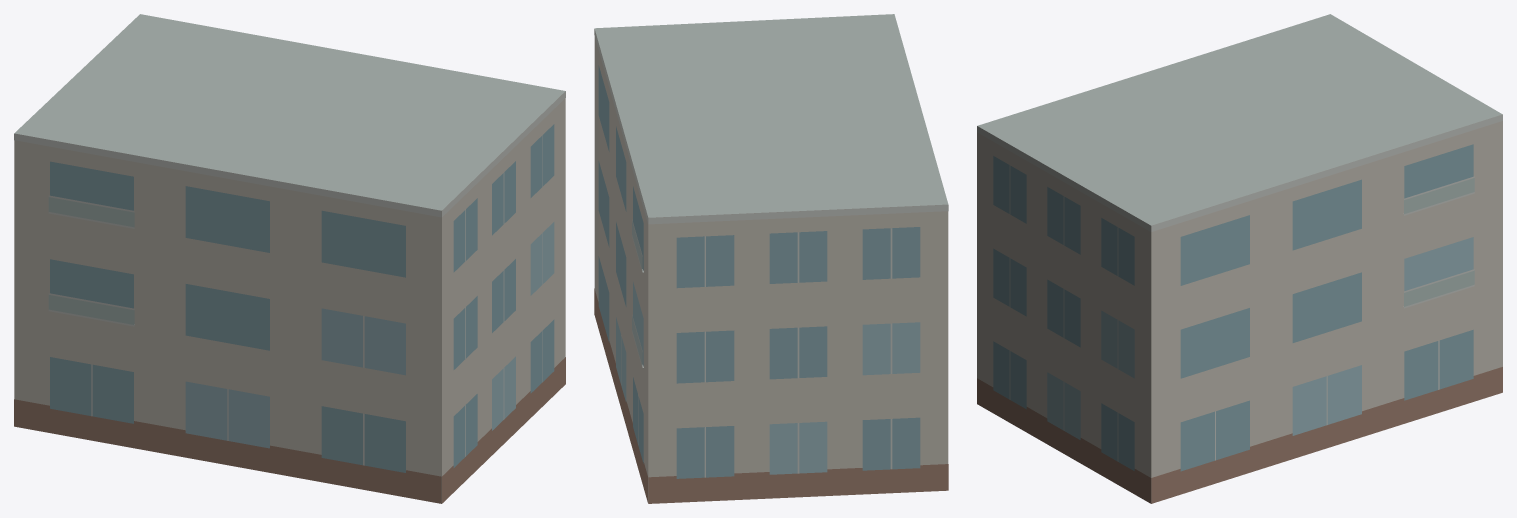
File: survey-upis-32764220.glb
The picture shows the model from 3 angles, left to right: view 1: azimuth 30°, elevation 25°; view 2: azimuth 150°, elevation 25°; view 3: azimuth 270°, elevation 25°; orthographic projection. The views are drawn at different scales.
Parts seen in each view (by area): view 1: survey-upis-32764220.tmp; view 2: survey-upis-32764220.tmp; view 3: survey-upis-32764220.tmp.
Boxes of the visible parts, box(x1,y1,x2,y2) form: survey-upis-32764220.tmp: box(14, 14, 565, 503); survey-upis-32764220.tmp: box(594, 14, 948, 503); survey-upis-32764220.tmp: box(977, 14, 1502, 503).
Bounding box in the file's own units: 17.14 × 10.5 × 17.99.
